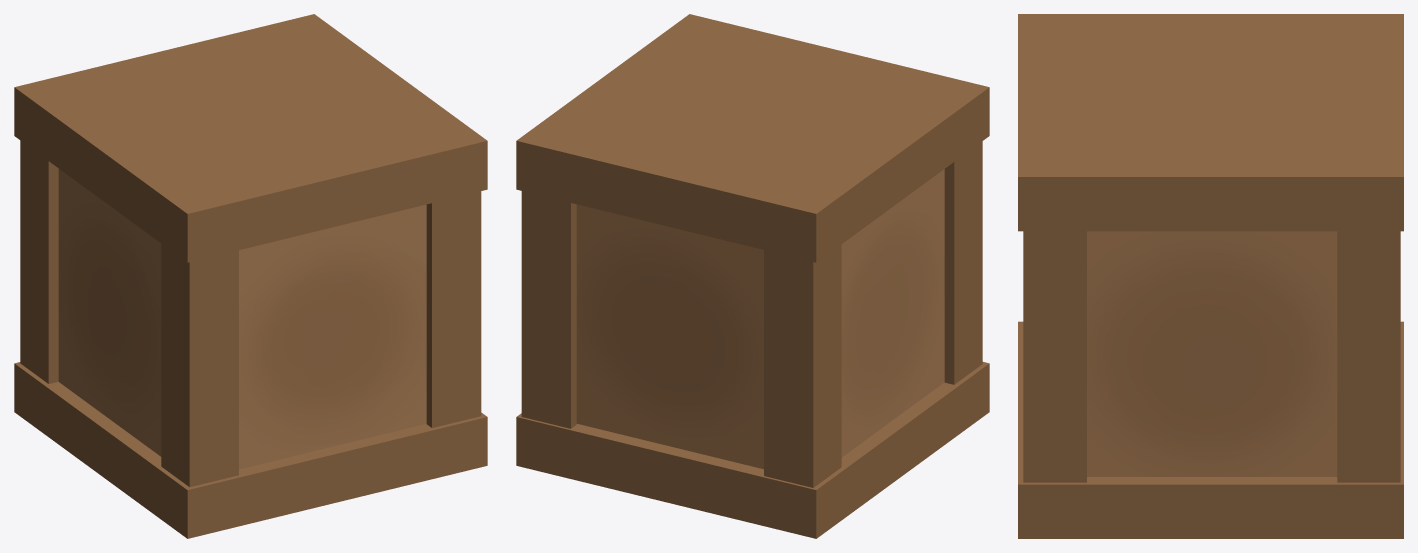
Rendered from Crate.fbx.
The picture shows the model from 3 angles, left to right: view 1: azimuth 30°, elevation 25°; view 2: azimuth 150°, elevation 25°; view 3: azimuth 270°, elevation 25°; orthographic projection. The views are drawn at different scales.
Visible parts, largest first — view 1: Cube.002; view 2: Cube.002; view 3: Cube.002.
Part boxes in pixels (x1,y1,x2,y2): Cube.002: (14,14,487,538); Cube.002: (516,14,989,538); Cube.002: (1018,14,1403,538).
Bounding box in the file's own units: 352 × 364 × 352.
